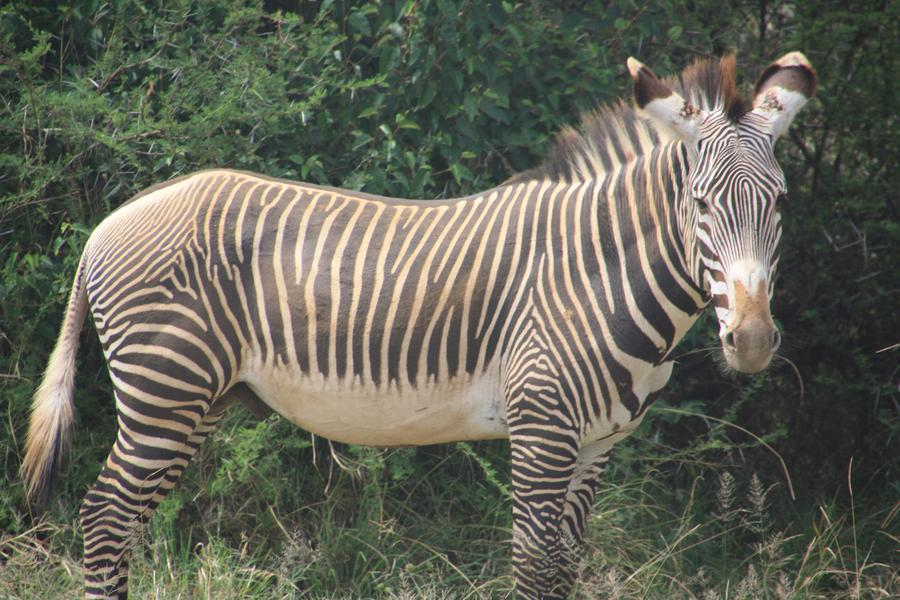zebra_grevys: (66, 120, 606, 433)
